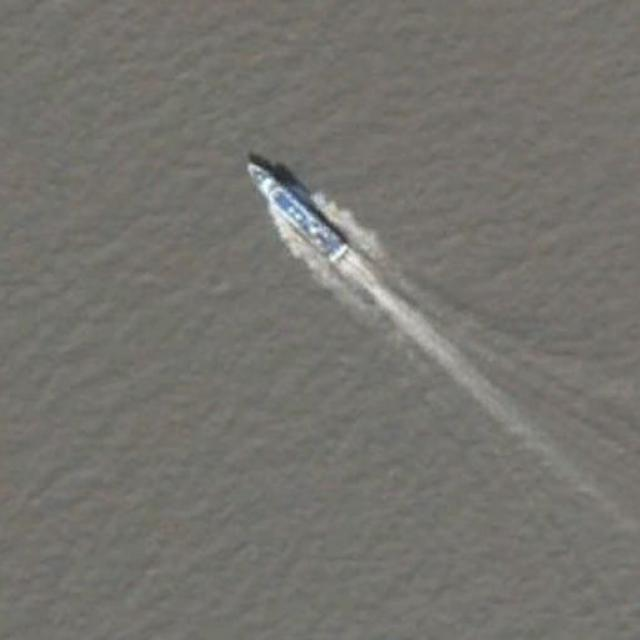ship: (241, 156, 350, 264)
